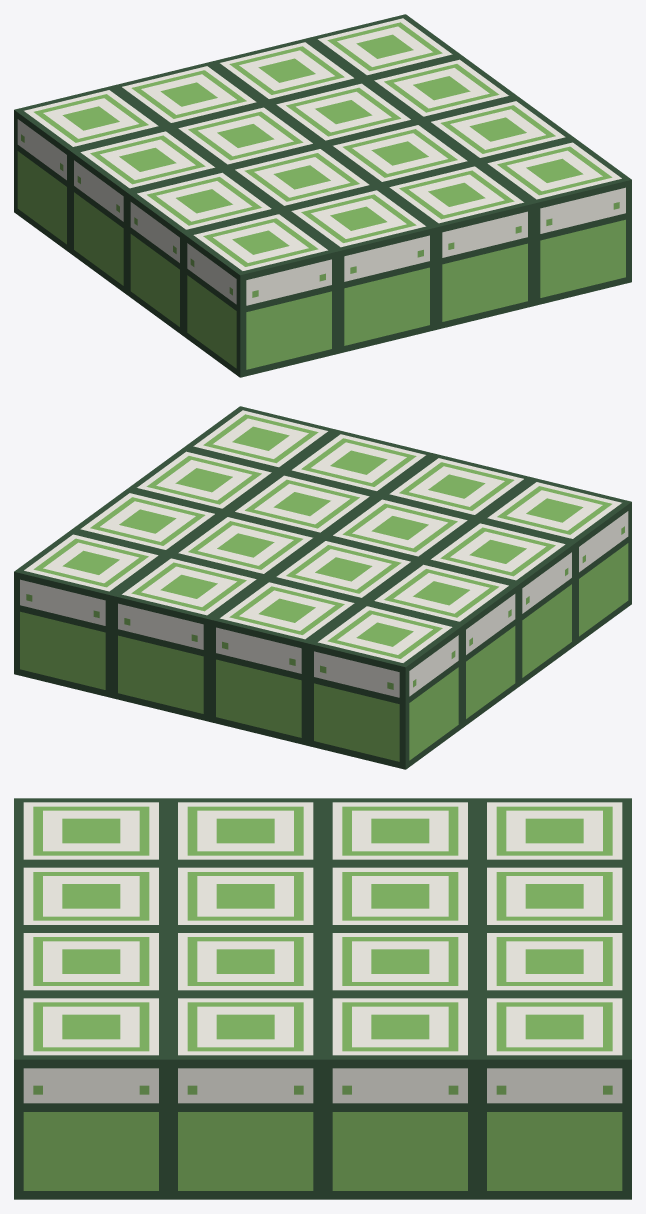
The model's file is bin_tiles_V24x4.fbx.
The picture shows the model from 3 angles, top to bottom: view 1: azimuth 30°, elevation 25°; view 2: azimuth 150°, elevation 25°; view 3: azimuth 270°, elevation 25°; orthographic projection. The views are drawn at different scales.
Parts seen in each view (by area): view 1: bin_tiles_V24x4; view 2: bin_tiles_V24x4; view 3: bin_tiles_V24x4.
Boxes of the visible parts, <box> form: bin_tiles_V24x4: <box>14,14,631,377</box>; bin_tiles_V24x4: <box>14,406,631,769</box>; bin_tiles_V24x4: <box>14,798,631,1199</box>.
Size of the model in its own units: 6.4 by 1.6 by 6.4.
1 material, 1 textured.
